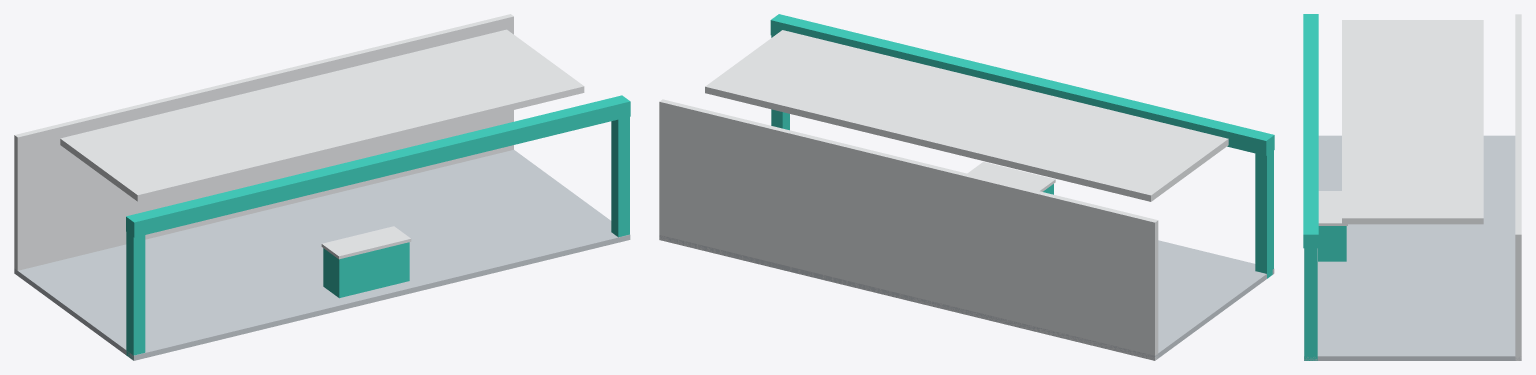
3 renders of one model, left to right at view 1: azimuth 30°, elevation 25°; view 2: azimuth 150°, elevation 25°; view 3: azimuth 270°, elevation 25°, orthographic. The views are drawn at different scales.
Parts seen in each view (by area): view 1: Exhibition Booth Concept; view 2: Exhibition Booth Concept; view 3: Exhibition Booth Concept.
Part boxes in pixels (left/top/right/bottom): Exhibition Booth Concept: left=14, top=14, right=630, bottom=360; Exhibition Booth Concept: left=659, top=14, right=1274, bottom=360; Exhibition Booth Concept: left=1303, top=14, right=1521, bottom=360.
Bounding box in the file's own units: 12 × 3.34 × 5.02.
